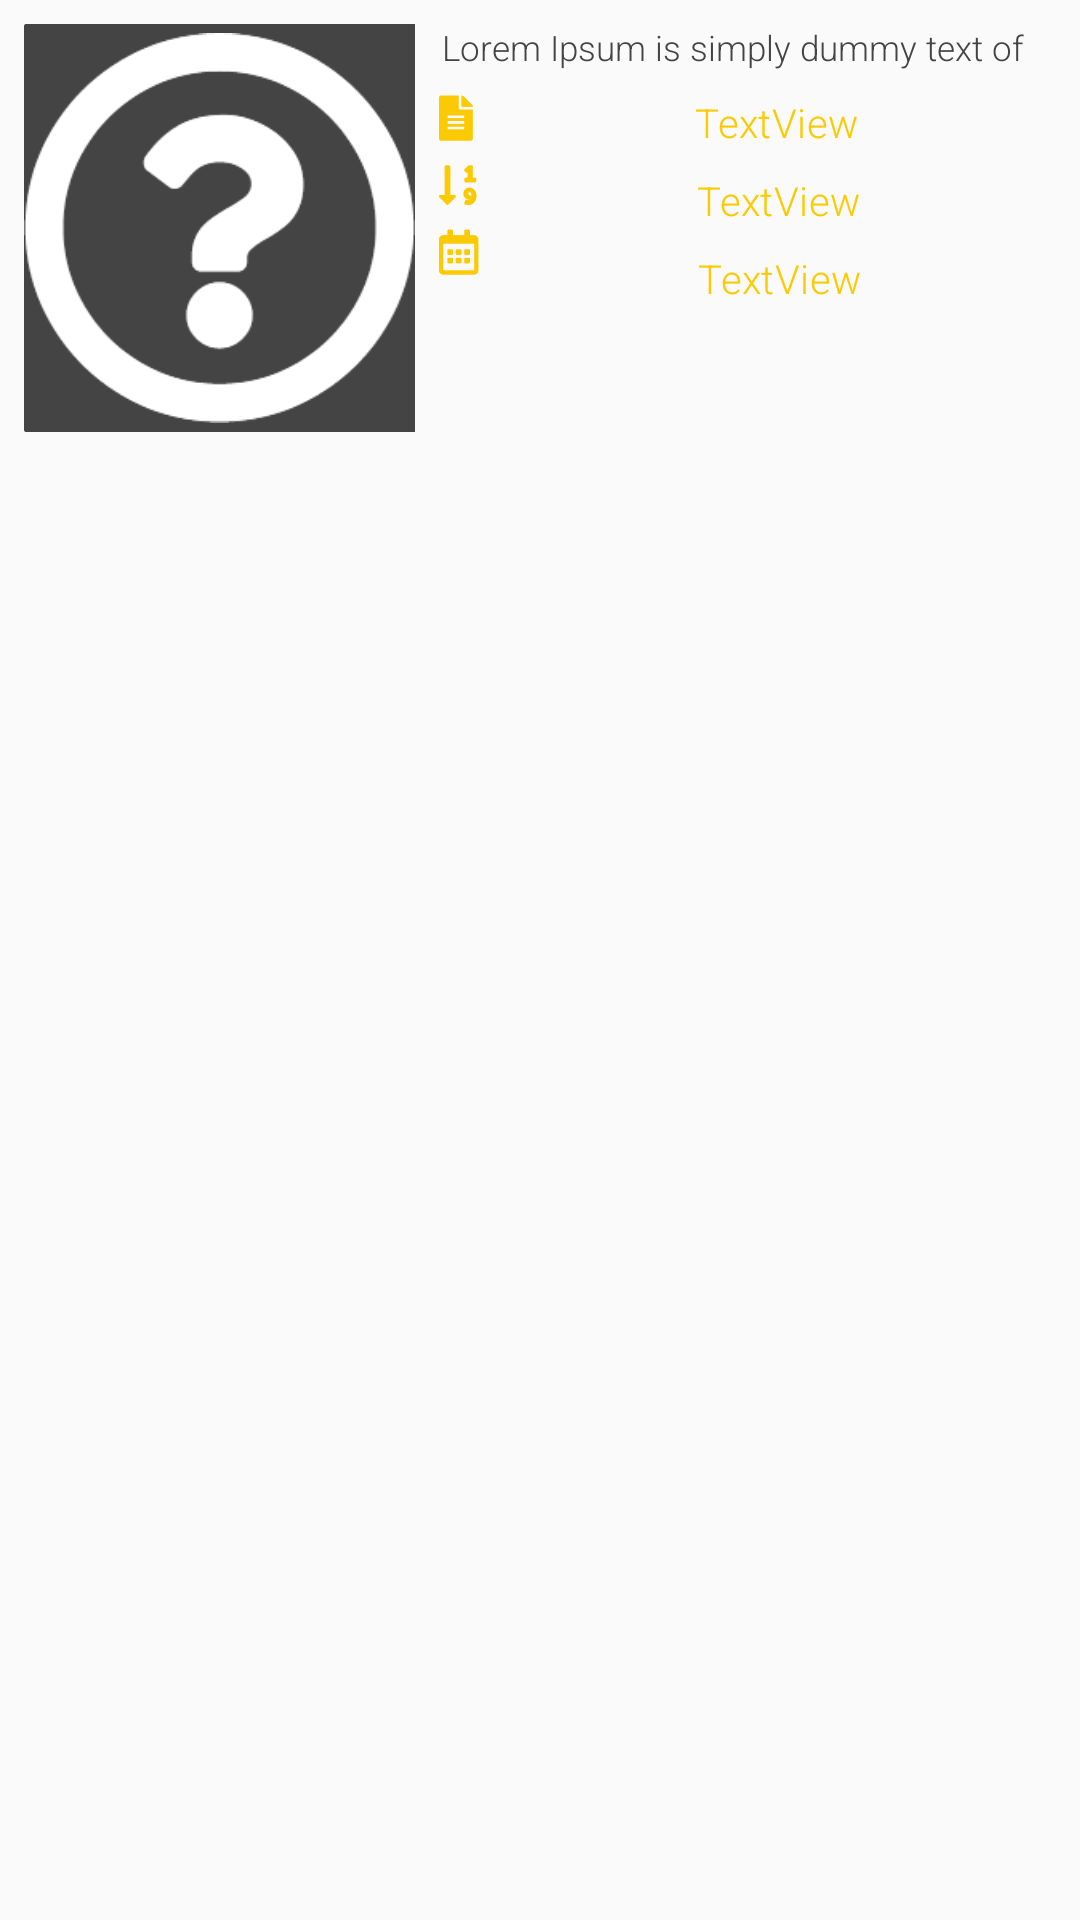

Screen size 1080*1920. Icon name, then its center in pixels as (x,y):
request date: (459,252)
request type: (456,118)
